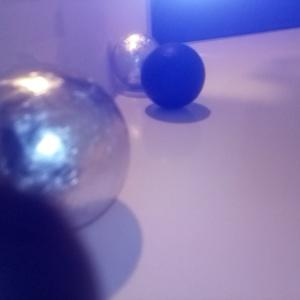alive_ball: (1, 69, 129, 231), (111, 33, 162, 86)
dead_ball: (1, 175, 102, 300), (142, 43, 205, 107)
